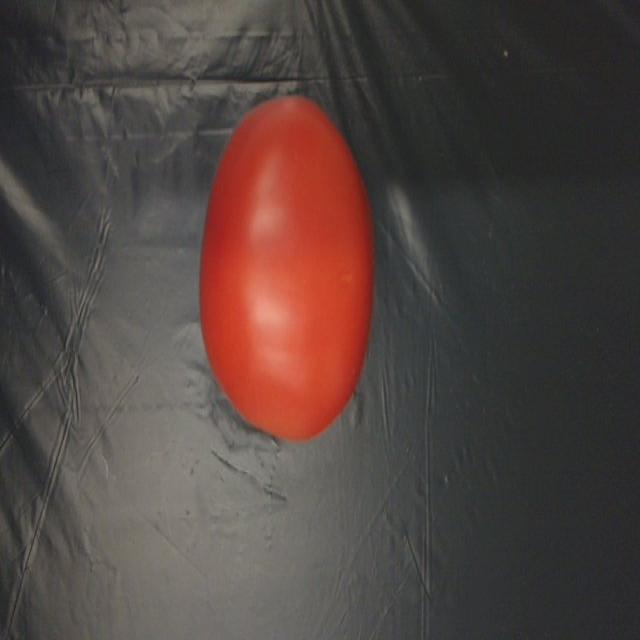kirmizi: (177, 72, 393, 440)
